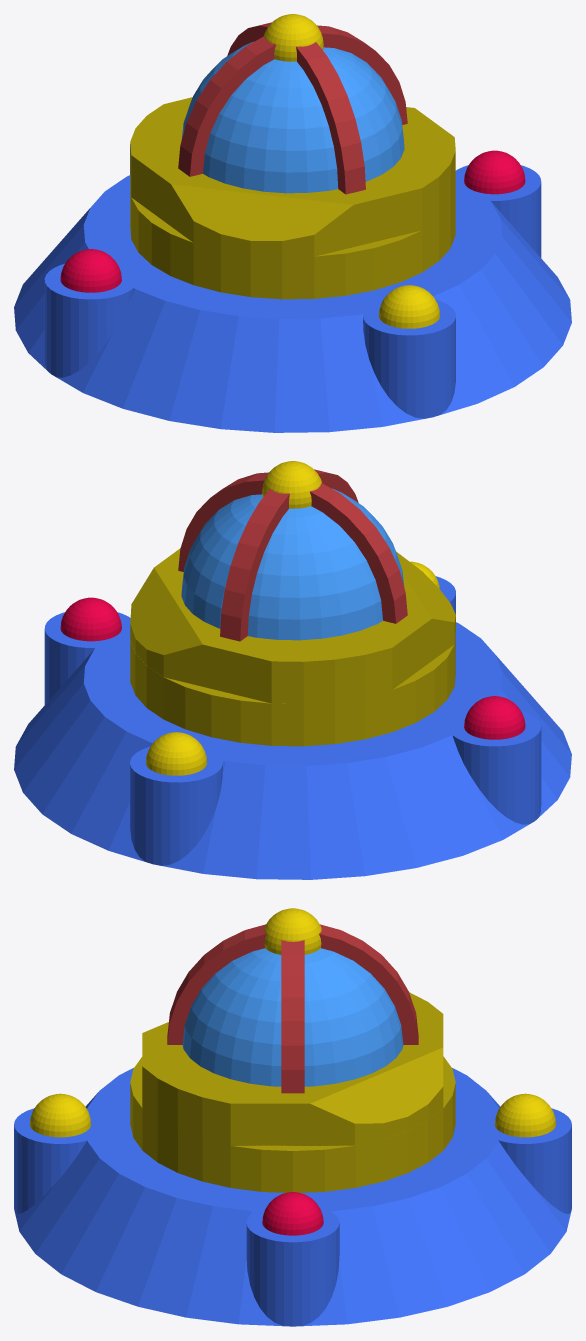
Rendered from SeaBunker.dae.
The picture shows the model from 3 angles, top to bottom: view 1: azimuth 30°, elevation 25°; view 2: azimuth 150°, elevation 25°; view 3: azimuth 270°, elevation 25°; orthographic projection.
Visible parts, largest first — view 1: Cylinder, Cylinder.005; view 2: Cylinder, Cylinder.005; view 3: Cylinder, Cylinder.005.
Boxes of the visible parts, <box> form: Cylinder: <box>14,144,571,432</box>; Cylinder.005: <box>130,14,455,299</box>; Cylinder: <box>14,561,571,879</box>; Cylinder.005: <box>130,461,455,746</box>; Cylinder: <box>14,1068,571,1326</box>; Cylinder.005: <box>130,908,455,1192</box>.
Bounding box in the file's own units: 6 × 6 × 3.53.
